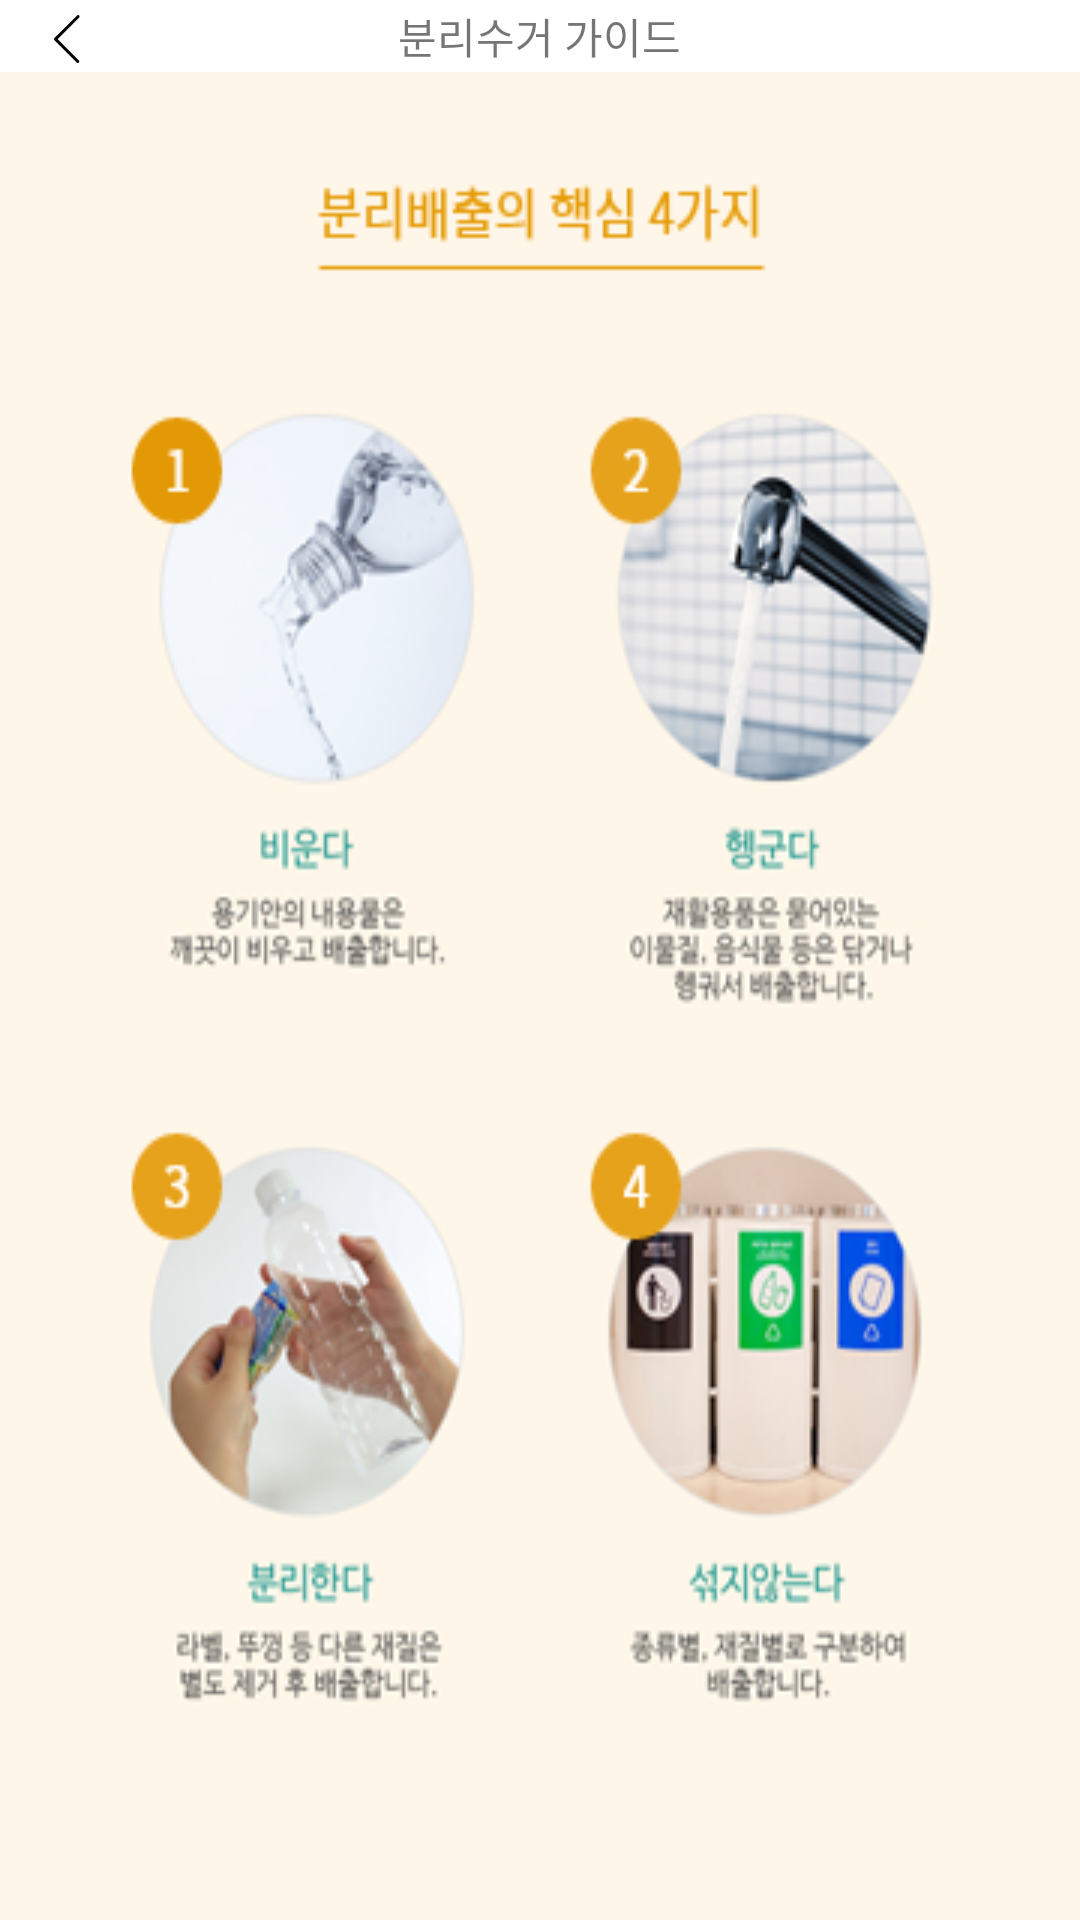

Icons on this 1080 × 1920 Android screen, each with the point to tap as (x,y):
back: (67,39)
